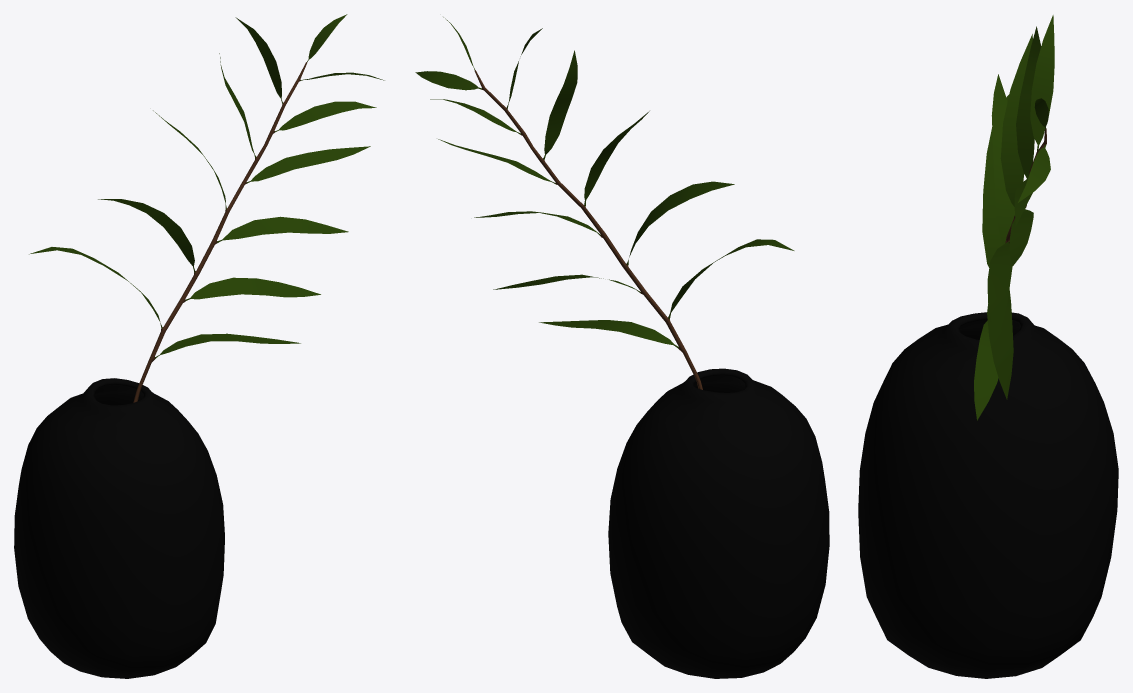
File: DECO_Pot_Plants_01_01.FBX
The picture shows the model from 3 angles, left to right: view 1: azimuth 30°, elevation 25°; view 2: azimuth 150°, elevation 25°; view 3: azimuth 270°, elevation 25°; orthographic projection. The views are drawn at different scales.
Visible parts, largest first — view 1: 19 Glass Pebble vase 1 cylinder; view 2: 19 Glass Pebble vase 1 cylinder; view 3: 19 Glass Pebble vase 1 cylinder.
Part boxes in pixels (x1,y1,x2,y2): 19 Glass Pebble vase 1 cylinder: (14, 14, 384, 678); 19 Glass Pebble vase 1 cylinder: (415, 17, 829, 678); 19 Glass Pebble vase 1 cylinder: (858, 15, 1118, 678).
Bounding box in the file's own units: 21.87 × 32.79 × 10.83.
